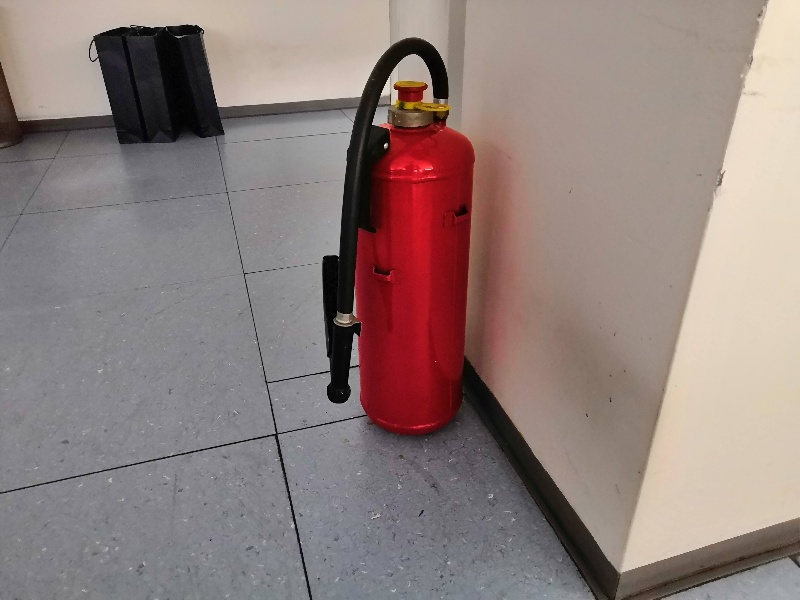vataparat: (321, 39, 474, 436)
